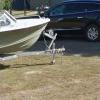Boat: (1, 2, 53, 63)
